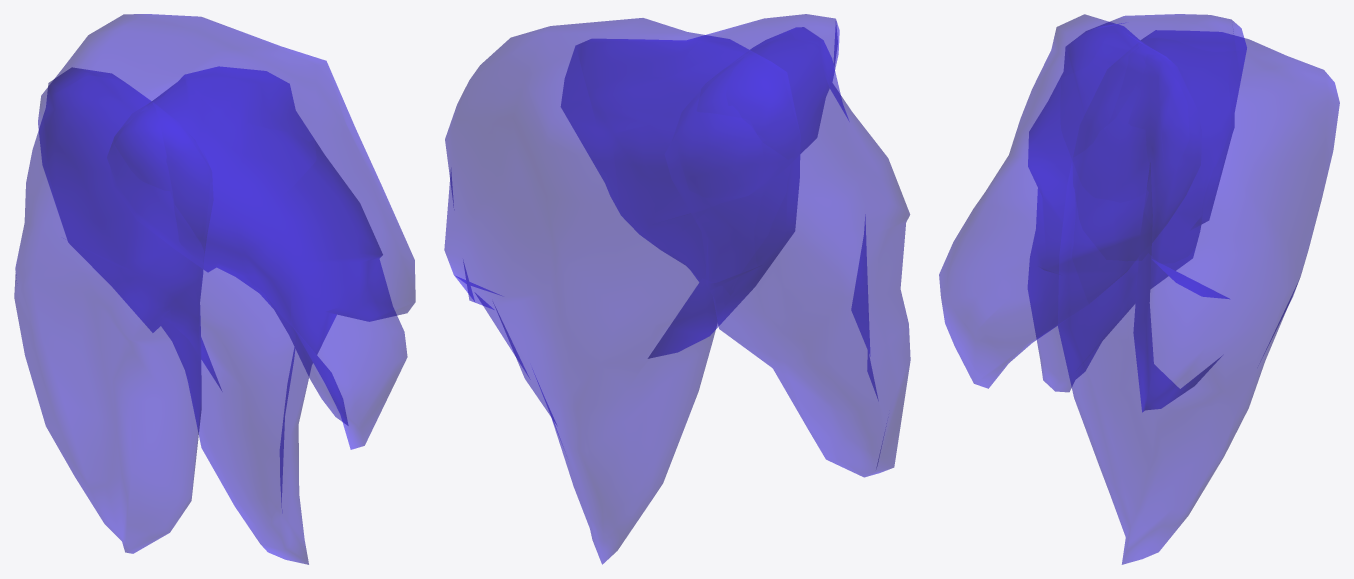
The picture shows the model from 3 angles, left to right: view 1: azimuth 30°, elevation 25°; view 2: azimuth 150°, elevation 25°; view 3: azimuth 270°, elevation 25°; orthographic projection. The views are drawn at different scales.
Visible parts, largest first — view 1: SM_RoughRock01_low.001; view 2: SM_RoughRock01_low.001; view 3: SM_RoughRock01_low.001.
Part boxes in pixels (left/top/right/bottom): SM_RoughRock01_low.001: left=14, top=14, right=415, bottom=564; SM_RoughRock01_low.001: left=444, top=14, right=910, bottom=564; SM_RoughRock01_low.001: left=939, top=14, right=1339, bottom=564.
Bounding box in the file's own units: 2.09 × 2.58 × 2.01.
